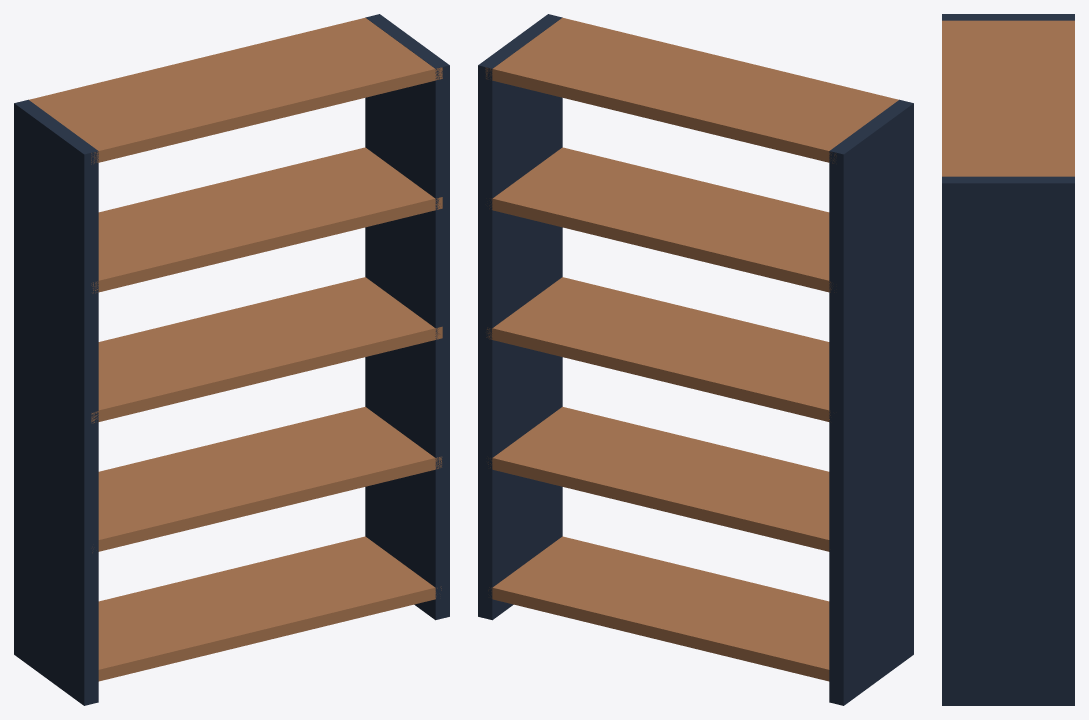
The model's file is officeOpenShelf.glb.
3 renders of one model, left to right at view 1: azimuth 30°, elevation 25°; view 2: azimuth 150°, elevation 25°; view 3: azimuth 270°, elevation 25°, orthographic. The views are drawn at different scales.
Size of the model in its own units: 1.15 by 1.65 by 0.38.
